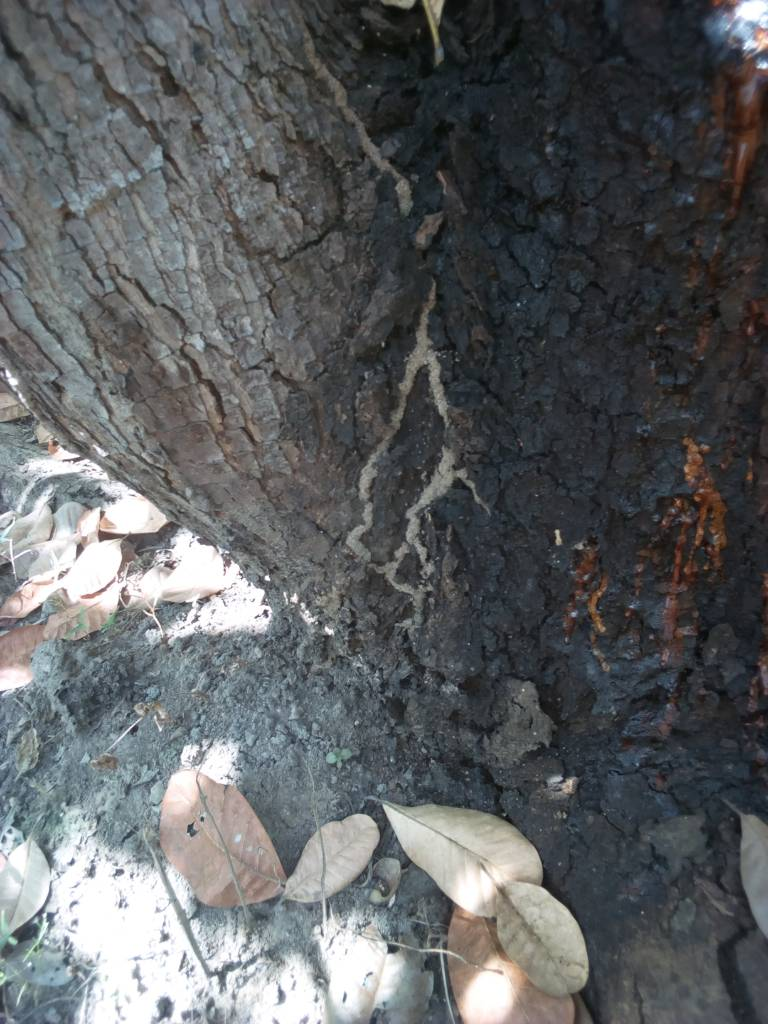Gommose: (388, 27, 768, 746)
